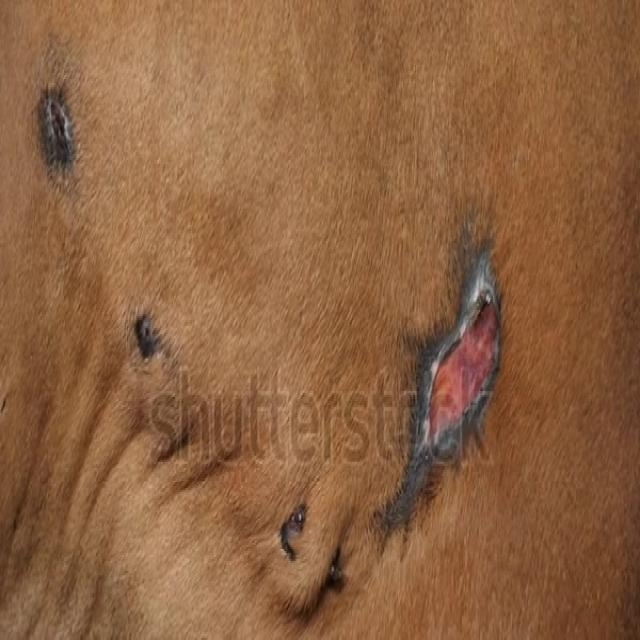injured-animals: (337, 180, 570, 640), (106, 292, 380, 611), (0, 91, 144, 640)
normal_animals: (0, 2, 638, 638)
